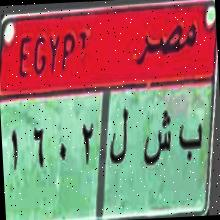0: (54, 130, 72, 178)
1: (3, 120, 24, 182)
2: (77, 113, 99, 176)
6: (27, 122, 49, 177)
baa: (176, 106, 207, 170)
laam: (104, 103, 136, 173)
sheen: (140, 106, 175, 176)
